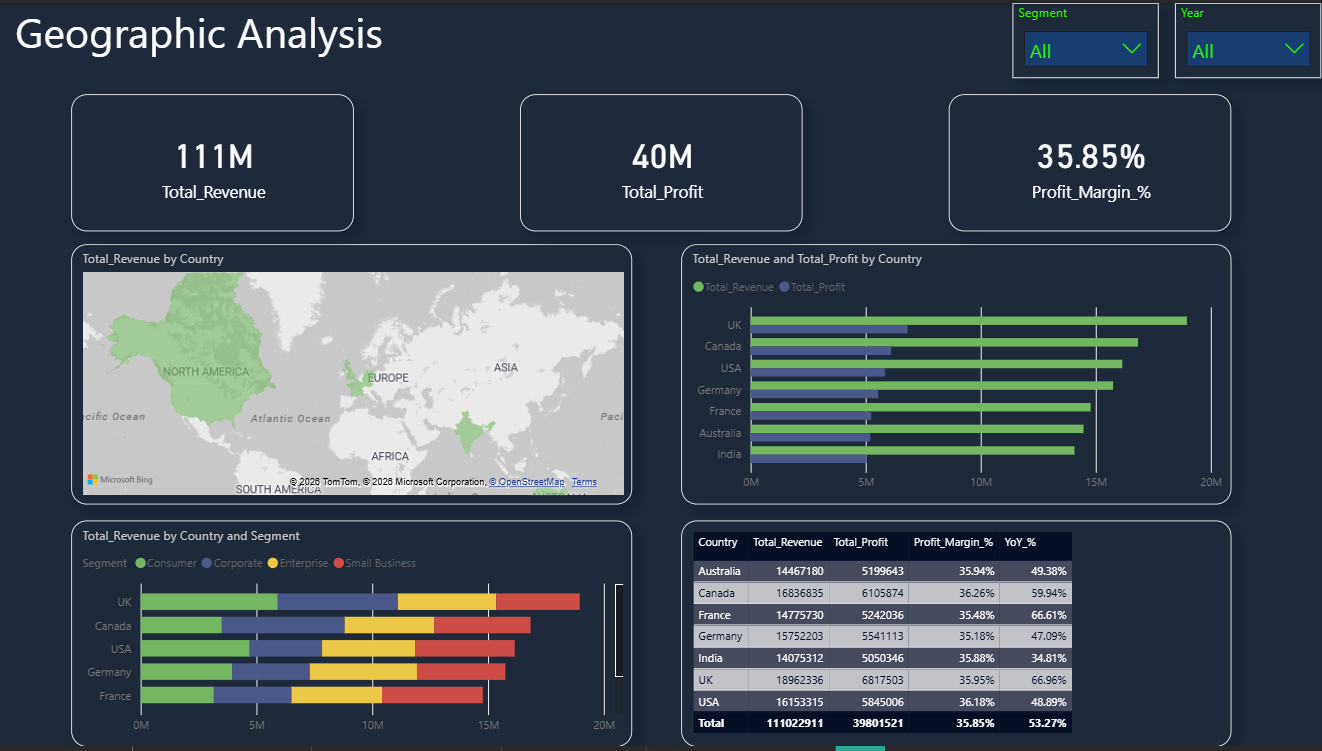

What the dashboard file says about the page in this screenshot:
{"tool":"powerbi","page":{"name":"Geographic Analysis","canvas":[1280,720],"ordinal":3},"visuals":[{"type":"textbox","title":"Geographic Analysis","box":[9.7,0,366.8,62.9],"z":0},{"type":"card","fields":{"Values":["_Measures.Total_Revenue"]},"box":[69,88.4,273.6,133.2],"z":1,"group":"g1"},{"type":"card","fields":{"Values":["_Measures.Total_Profit"]},"box":[503.6,88.4,273.6,133.2],"z":2,"group":"g1"},{"type":"card","fields":{"Values":["_Measures.Profit_Margin_%"]},"box":[918.8,88.4,273.6,133.2],"z":3,"group":"g1"},{"type":"slicer","title":"Segment","fields":{"Values":["Dim_Segment.Segment"]},"box":[980.5,0,141.6,72.6],"z":4},{"type":"slicer","title":"Year","fields":{"Values":["Dim_Date.Year"]},"box":[1138.4,0,141.6,72.6],"z":5},{"type":"filledMap","fields":{"Category":["Dim_Country.Country"]},"box":[69,233.6,543.5,251.8],"z":6},{"type":"clusteredBarChart","fields":{"Category":["Dim_Country.Country"],"Y":["_Measures.Total_Revenue","_Measures.Total_Profit"]},"box":[659.7,233.6,532.6,251.8],"z":7},{"type":"barChart","fields":{"Category":["Dim_Country.Country"],"Y":["_Measures.Total_Revenue"],"Series":["Dim_Segment.Segment"]},"box":[69,501.1,543.5,219.1],"z":8},{"type":"tableEx","fields":{"Values":["Dim_Country.Country","_Measures.Total_Revenue","_Measures.Total_Profit","_Measures.Profit_Margin_%","_Measures.YoY_%"]},"box":[659.7,501.1,532.6,219.1],"z":9},{"type":"group","id":"g1","title":"Group 1","box":[69,88.4,1123.3,133.2],"z":10}]}

Visuals, with their boxes in screenshot pixels (x1, y1, x2, y2), scaled from the page's 1280x720 canvas onto the 1322x751 screenshot:
"Geographic Analysis" textbox: select_region(10, 0, 389, 66)
card - _Measures.Total_Revenue: select_region(71, 92, 354, 231)
card - _Measures.Total_Profit: select_region(520, 92, 803, 231)
card - _Measures.Profit_Margin_%: select_region(949, 92, 1232, 231)
"Segment" slicer: select_region(1013, 0, 1159, 76)
"Year" slicer: select_region(1176, 0, 1321, 76)
filledMap - Dim_Country.Country: select_region(71, 244, 633, 506)
clusteredBarChart - Dim_Country.Country x _Measures.Total_Revenue: select_region(681, 244, 1231, 506)
barChart - Dim_Country.Country x _Measures.Total_Revenue: select_region(71, 523, 633, 750)
tableEx - Dim_Country.Country x _Measures.Total_Revenue: select_region(681, 523, 1231, 750)
"Group 1" group: select_region(71, 92, 1231, 231)
